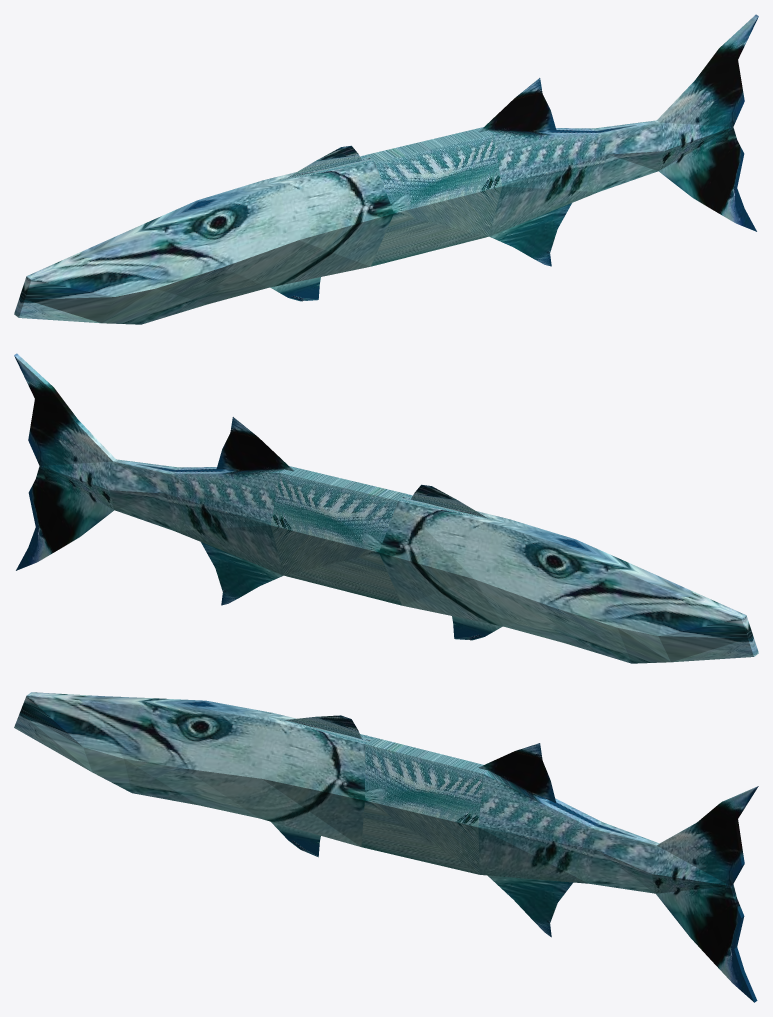
The model's file is barracuda.fbx.
The picture shows the model from 3 angles, top to bottom: view 1: azimuth 30°, elevation 25°; view 2: azimuth 150°, elevation 25°; view 3: azimuth 330°, elevation 25°; orthographic projection.
Parts seen in each view (by area): view 1: Plane; view 2: Plane; view 3: Plane.
Part boxes in pixels (box(x1,y1,x2,y2)): Plane: box(14, 14, 758, 324); Plane: box(14, 353, 758, 663); Plane: box(14, 692, 758, 1002).
Size of the model in its own units: 992 by 275 by 89.39.
1 material, 1 textured.
